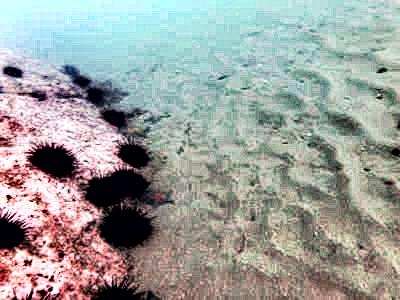urchin: (102, 204, 153, 248), (25, 140, 75, 178), (86, 271, 152, 296), (112, 135, 152, 167), (1, 203, 26, 254), (111, 164, 148, 198), (82, 176, 120, 207), (102, 110, 122, 124), (5, 66, 22, 76)
